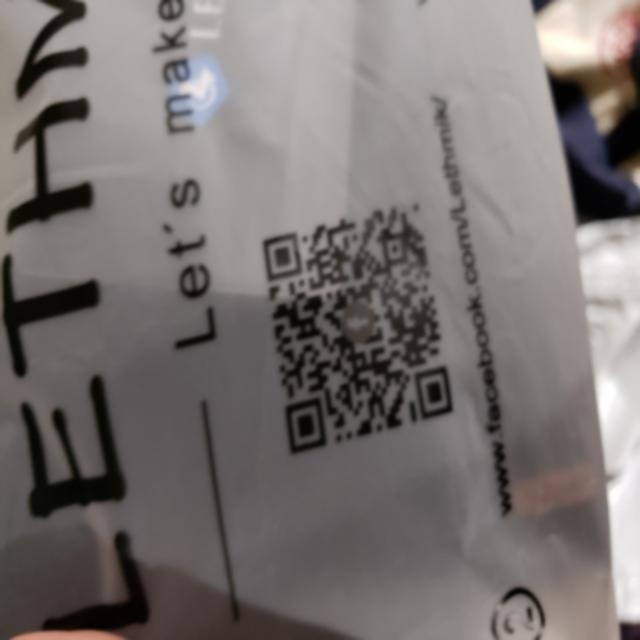qr-code: (250, 189, 468, 463)
